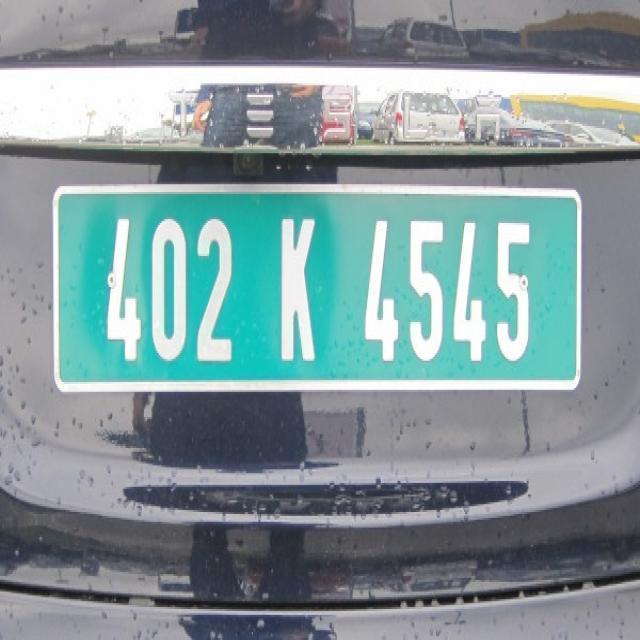License Plate: (41, 153, 585, 434)
